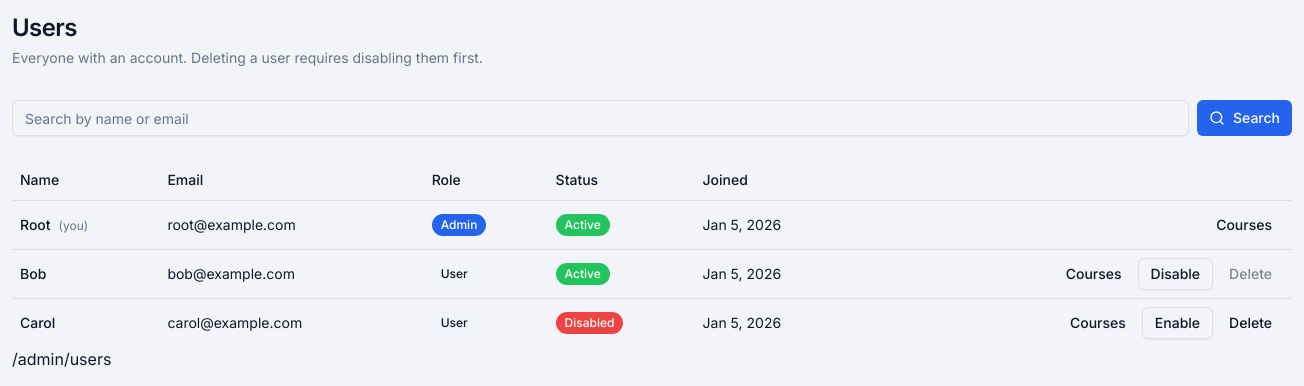
Scenario: search › searches on submit and puts the search in the URL
The width and height of the screenshot is (1304, 386).
Type "  bob  " into the search field named "Search users". click: (600, 118)
box: [12,100,1189,136]
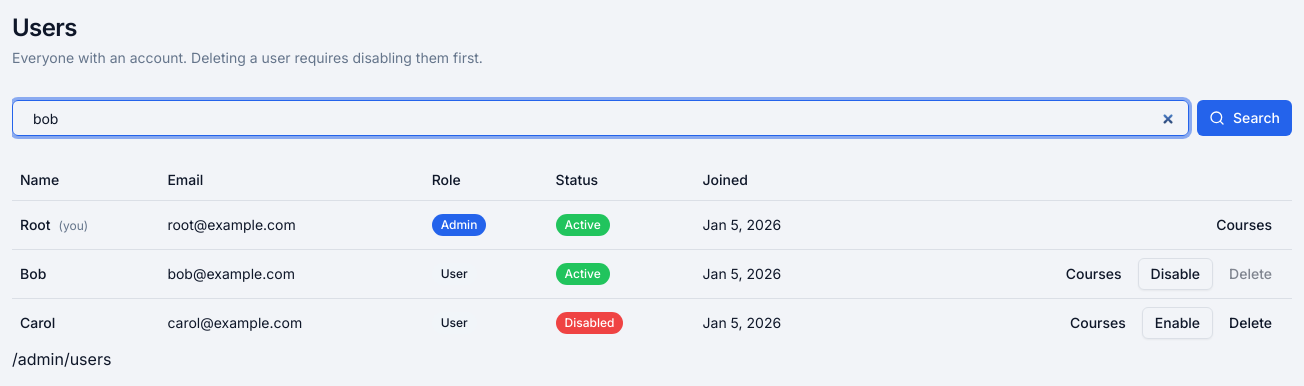
Click the button "Search". click: (1244, 118)
box: [1197,100,1292,136]
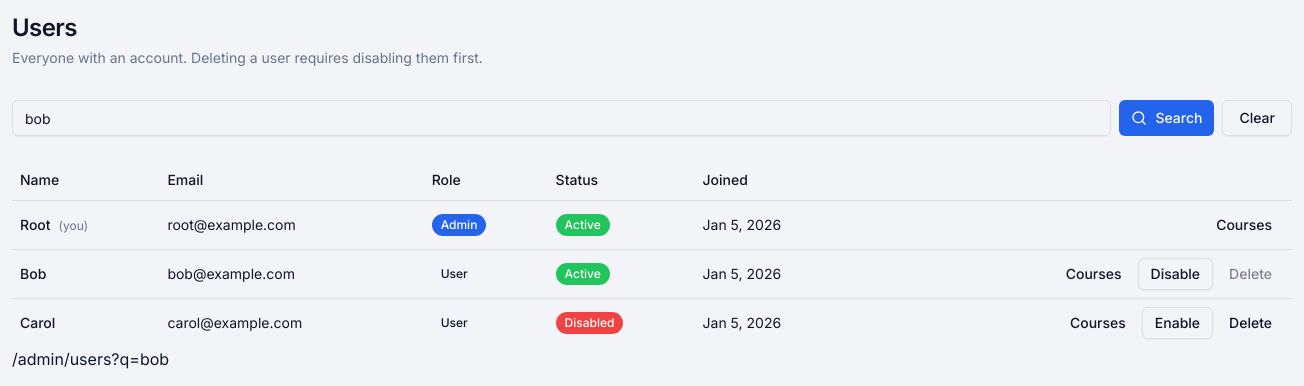
Now the text with test id "location" reads "/admin/users?q=bob", box [12,348,169,368]
